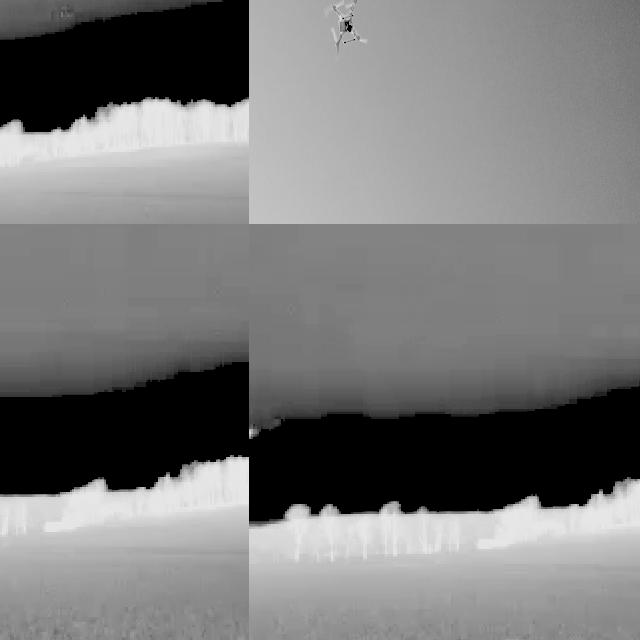0: (55, 5, 83, 37)
1: (249, 419, 263, 449)
drone: (323, 0, 369, 54)
